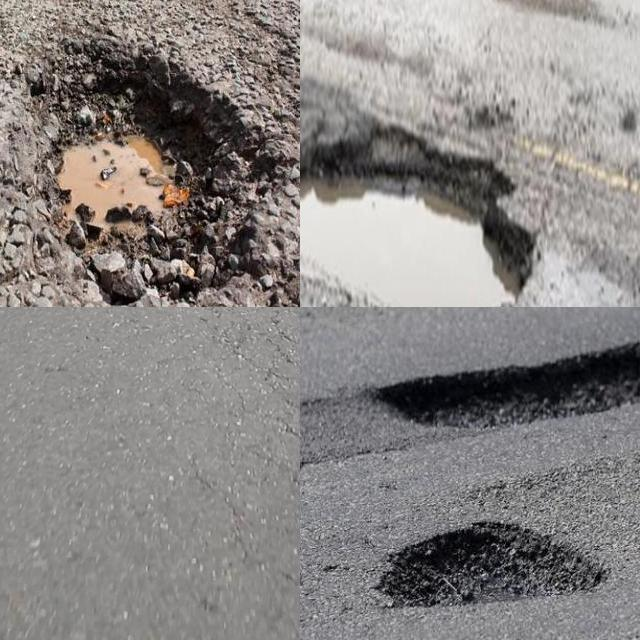Lubang: (24, 50, 292, 290), (300, 129, 537, 307), (376, 338, 640, 434), (373, 527, 610, 613)
